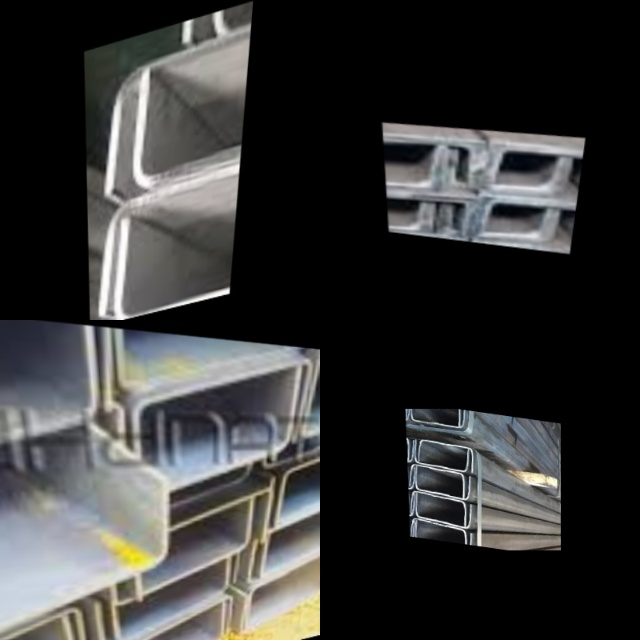Shveller: (0, 482, 168, 640), (115, 353, 298, 490), (107, 30, 251, 187), (101, 172, 239, 312), (131, 348, 313, 449), (141, 23, 251, 181), (0, 320, 114, 467), (122, 179, 239, 320), (0, 320, 98, 482), (107, 498, 251, 603), (132, 490, 270, 597), (118, 329, 308, 391), (91, 558, 230, 640), (238, 550, 320, 634), (451, 146, 568, 200), (383, 131, 485, 191), (246, 547, 320, 624), (443, 196, 556, 246), (488, 139, 584, 197), (107, 595, 230, 640), (479, 191, 577, 247), (250, 501, 320, 578), (387, 188, 476, 240), (100, 604, 222, 640), (262, 497, 320, 568), (384, 142, 445, 192), (0, 608, 87, 640), (416, 493, 473, 529), (410, 492, 466, 526), (0, 617, 80, 640), (409, 465, 464, 498), (416, 467, 471, 500), (418, 441, 473, 473), (416, 441, 470, 472), (410, 519, 466, 544), (416, 521, 472, 545), (412, 409, 466, 428), (406, 409, 460, 425)
